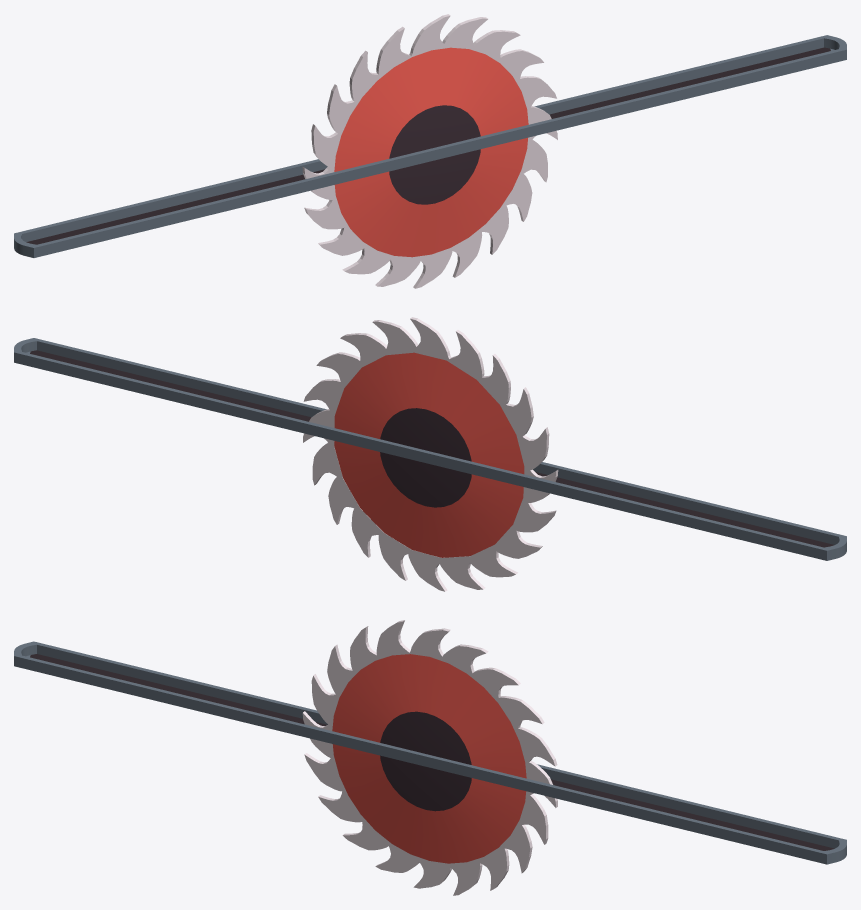
The model's file is Saw01.fbx.
3 views of the same model, one above another, from view 1: azimuth 30°, elevation 25°; view 2: azimuth 150°, elevation 25°; view 3: azimuth 330°, elevation 25° (orthographic).
Visible parts, largest first — view 1: Saw, Saw_Base; view 2: Saw, Saw_Base; view 3: Saw, Saw_Base.
Boxes of the visible parts, x1,y1,x2,y2 form: Saw: (302,14,557,288); Saw_Base: (14,35,846,257); Saw: (303,317,558,591); Saw_Base: (14,338,846,560); Saw: (302,620,557,895); Saw_Base: (14,641,846,864).
Bounding box in the file's own units: 848 × 259 × 35.4.
